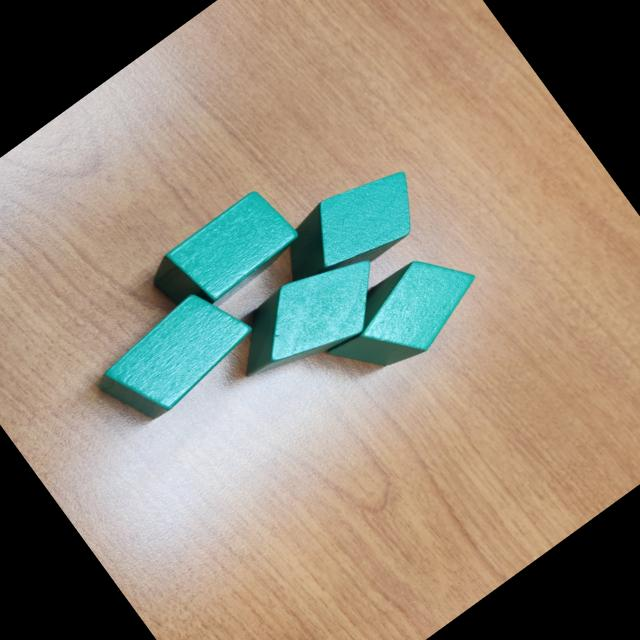green: (213, 230, 407, 404), (311, 232, 497, 400), (85, 276, 262, 436), (262, 150, 436, 308), (142, 182, 306, 330)
